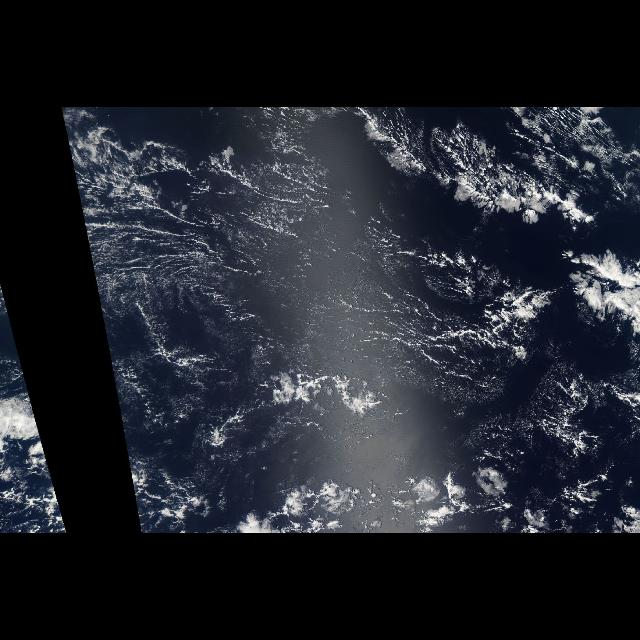Fish: (370, 110, 616, 232), (544, 240, 640, 350)
Sugar: (83, 156, 534, 420)
